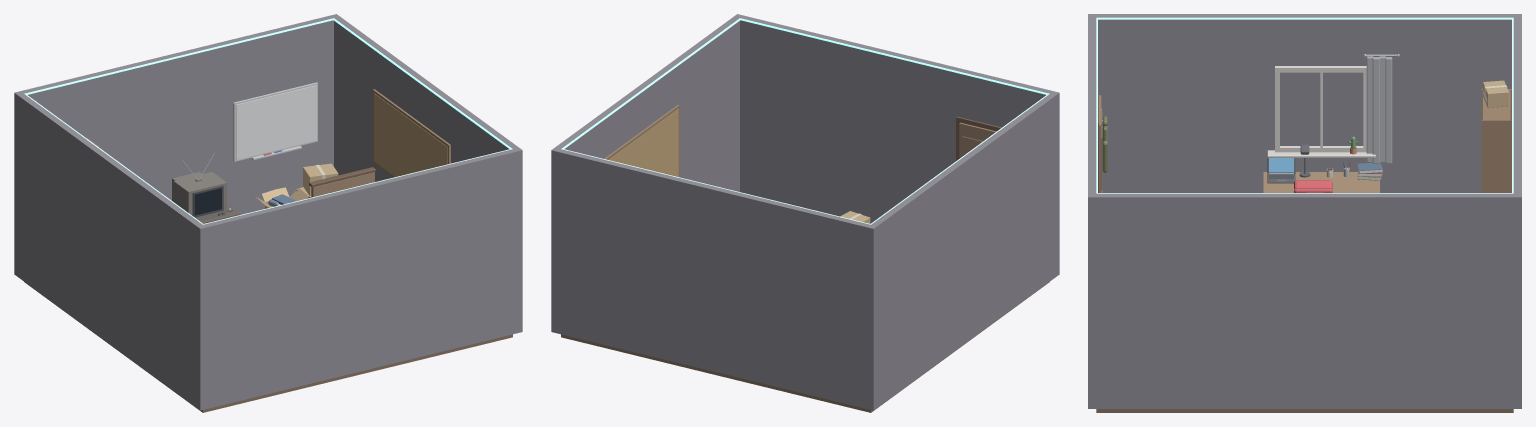
File: sala_visor.glb
The picture shows the model from 3 angles, left to right: view 1: azimuth 30°, elevation 25°; view 2: azimuth 150°, elevation 25°; view 3: azimuth 270°, elevation 25°; orthographic projection. The views are drawn at different scales.
Visible parts, largest first — view 1: Paredes, QuadroBranco, Mural, LinhaDoAlto, TV, Chao, Cama, PilhaDeCaixas, CaixaAbertaComLivros, Tela; view 2: Paredes, Mural, LinhaDoAlto, Chao, Porta; view 3: Paredes, Cortina, Estante, Janela, LinhaDoAlto, Chao, Escrivaninha, ObjetosDaEstante, Moletom, Porta, LivrosDaMesa.
Boxes of the visible parts, left/top/right/bottom form: Paredes: left=14, top=14, right=522, bottom=410; QuadroBranco: left=233, top=82, right=317, bottom=161; Mural: left=372, top=89, right=450, bottom=177; LinhaDoAlto: left=24, top=18, right=512, bottom=224; TV: left=172, top=172, right=227, bottom=221; Chao: left=24, top=282, right=512, bottom=412; Cama: left=309, top=167, right=375, bottom=197; PilhaDeCaixas: left=296, top=163, right=338, bottom=198; CaixaAbertaComLivros: left=255, top=187, right=308, bottom=208; Tela: left=194, top=188, right=221, bottom=215; Paredes: left=551, top=14, right=1059, bottom=410; Mural: left=604, top=105, right=679, bottom=177; LinhaDoAlto: left=561, top=18, right=1049, bottom=224; Chao: left=561, top=282, right=1049, bottom=412; Porta: left=956, top=116, right=1001, bottom=160; Paredes: left=1088, top=14, right=1521, bottom=408; Cortina: left=1366, top=56, right=1392, bottom=163; Estante: left=1481, top=89, right=1511, bottom=192; Janela: left=1267, top=66, right=1375, bottom=157; LinhaDoAlto: left=1096, top=17, right=1513, bottom=193; Chao: left=1096, top=409, right=1513, bottom=412; Escrivaninha: left=1263, top=172, right=1379, bottom=192; ObjetosDaEstante: left=1483, top=80, right=1508, bottom=107; Moletom: left=1294, top=180, right=1332, bottom=192; Porta: left=1098, top=88, right=1102, bottom=192; LivrosDaMesa: left=1357, top=162, right=1382, bottom=180.
Size of the model in its own units: 5.2 by 2.9 by 5.2.
